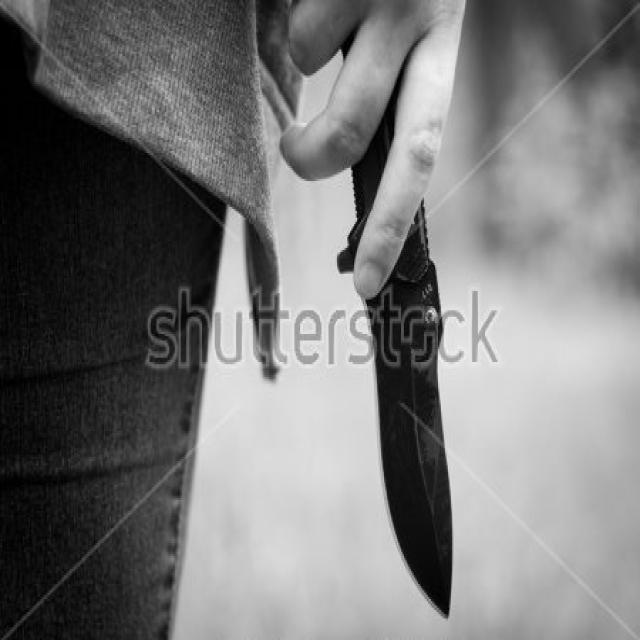knife: (330, 21, 461, 631)
